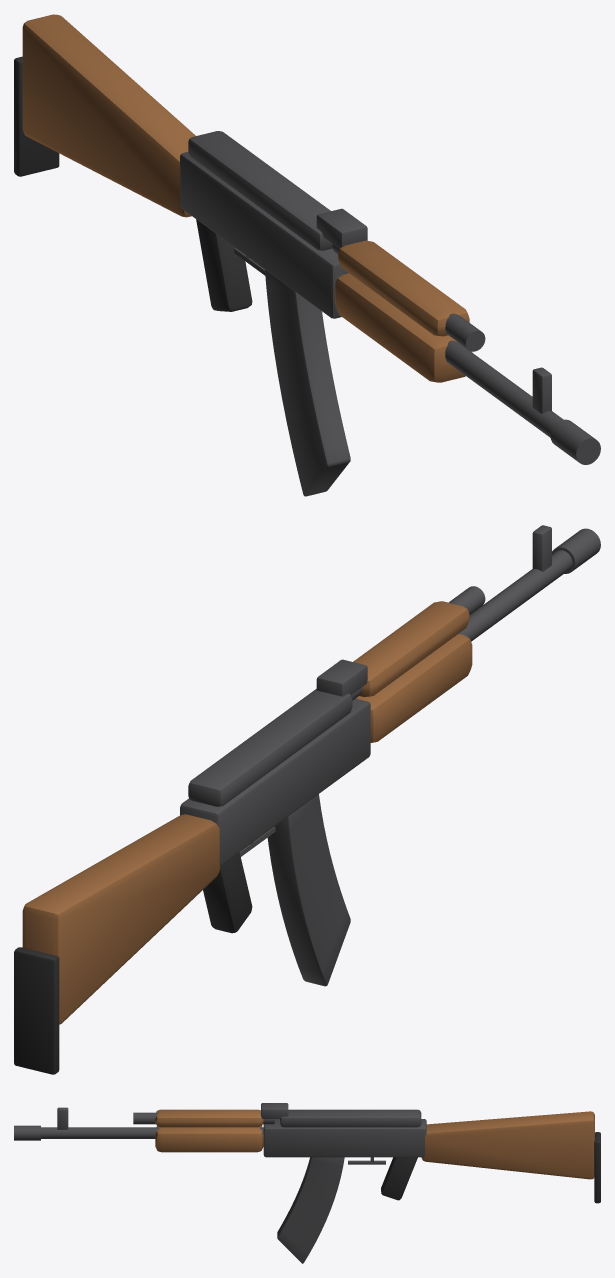
3 renders of one model, top to bottom at view 1: azimuth 30°, elevation 25°; view 2: azimuth 150°, elevation 25°; view 3: azimuth 270°, elevation 25°, orthographic. The views are drawn at different scales.
Parts seen in each view (by area): view 1: receiver; view 2: receiver; view 3: receiver.
Part boxes in pixels (bbox=[...]): receiver: bbox=[14, 14, 600, 496]; receiver: bbox=[14, 525, 600, 1074]; receiver: bbox=[14, 1103, 600, 1263].
Bounding box in the file's own units: 0.05 × 0.3154 × 1.08.
